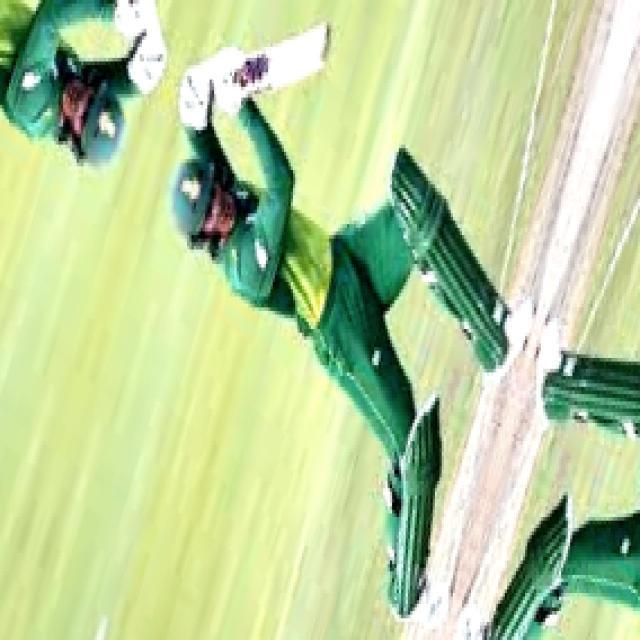bat: (321, 23, 331, 66)
toe: (216, 22, 333, 80)
